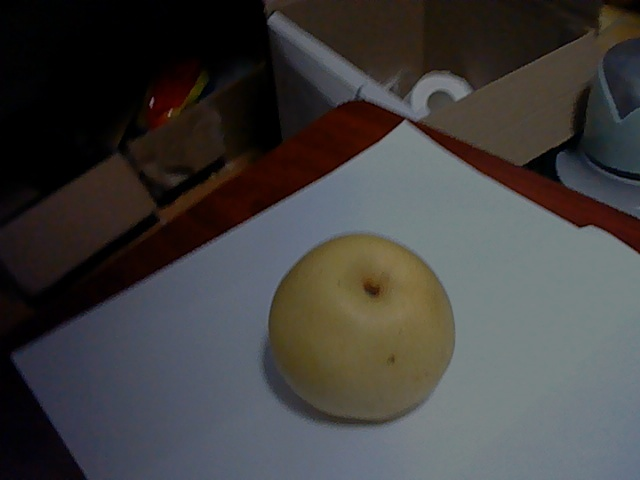pear: (278, 226, 460, 427)
